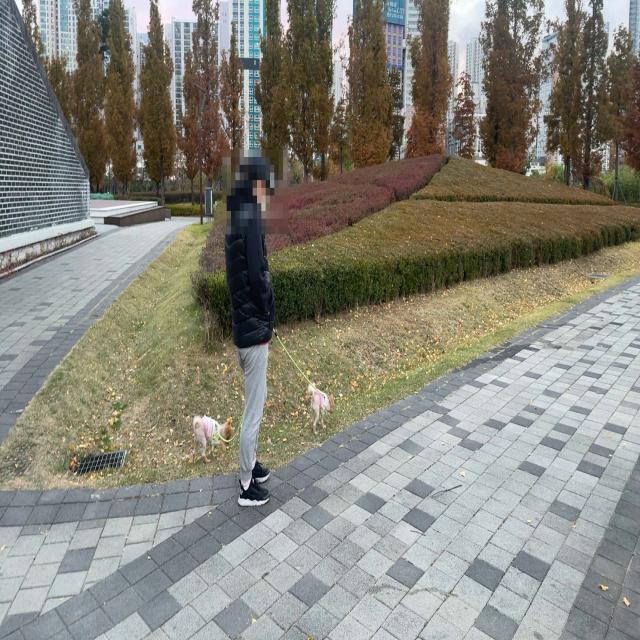Leashed_Dog: (256, 311, 335, 437), (190, 388, 252, 467)
